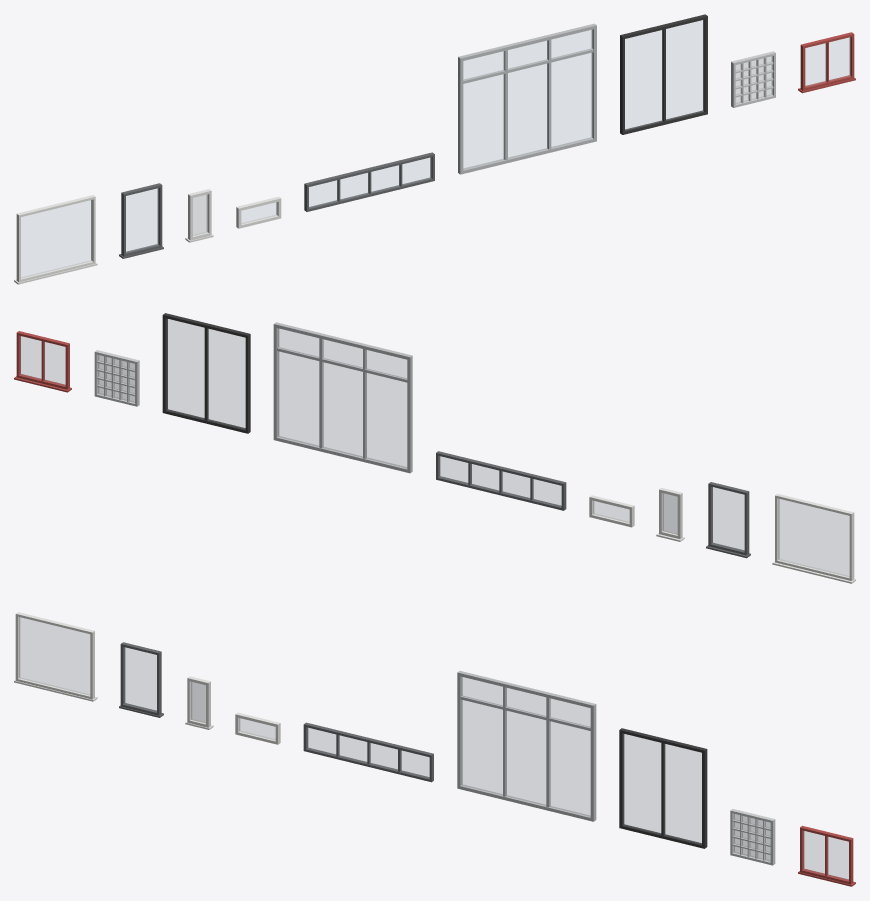
File: mlo_windows_more.glb
3 renders of one model, top to bottom at view 1: azimuth 30°, elevation 25°; view 2: azimuth 150°, elevation 25°; view 3: azimuth 330°, elevation 25°, orthographic.
Visible parts, largest first — view 1: Shopfront_Wide, Store_Display_Black, Picture_Window, Ribbon_Window, Tilt_Turn_Anthracite, Kitchen_Double_Red, Glass_Block, Bathroom_Frosted_Tall, Basement_Hopper; view 2: Shopfront_Wide, Store_Display_Black, Picture_Window, Ribbon_Window, Tilt_Turn_Anthracite, Kitchen_Double_Red, Glass_Block, Bathroom_Frosted_Tall, Basement_Hopper; view 3: Shopfront_Wide, Store_Display_Black, Picture_Window, Ribbon_Window, Tilt_Turn_Anthracite, Kitchen_Double_Red, Glass_Block, Bathroom_Frosted_Tall, Basement_Hopper.
Part boxes in pixels (x1,y1,x2,y2): Shopfront_Wide: [458, 23, 596, 174]; Store_Display_Black: [620, 14, 707, 134]; Picture_Window: [14, 195, 97, 284]; Ribbon_Window: [304, 152, 434, 211]; Tilt_Turn_Anthracite: [119, 183, 163, 258]; Kitchen_Double_Red: [798, 32, 855, 93]; Glass_Block: [731, 51, 775, 107]; Bathroom_Frosted_Tall: [185, 189, 213, 242]; Basement_Hopper: [236, 196, 281, 228]; Shopfront_Wide: [273, 322, 412, 473]; Store_Display_Black: [162, 313, 250, 433]; Picture_Window: [772, 493, 855, 583]; Ribbon_Window: [436, 451, 566, 510]; Tilt_Turn_Anthracite: [706, 482, 750, 558]; Kitchen_Double_Red: [14, 331, 71, 392]; Glass_Block: [94, 350, 139, 406]; Bathroom_Frosted_Tall: [656, 487, 684, 541]; Basement_Hopper: [589, 495, 634, 527]; Shopfront_Wide: [457, 671, 596, 821]; Store_Display_Black: [619, 728, 707, 848]; Picture_Window: [14, 612, 97, 701]; Ribbon_Window: [303, 722, 433, 782]; Tilt_Turn_Anthracite: [119, 642, 163, 717]; Kitchen_Double_Red: [798, 825, 855, 886]; Glass_Block: [730, 809, 775, 865]; Bathroom_Frosted_Tall: [185, 676, 213, 729]; Basement_Hopper: [235, 712, 280, 744].
Bounding box in the file's own units: 19.64 × 2.63 × 0.17.
